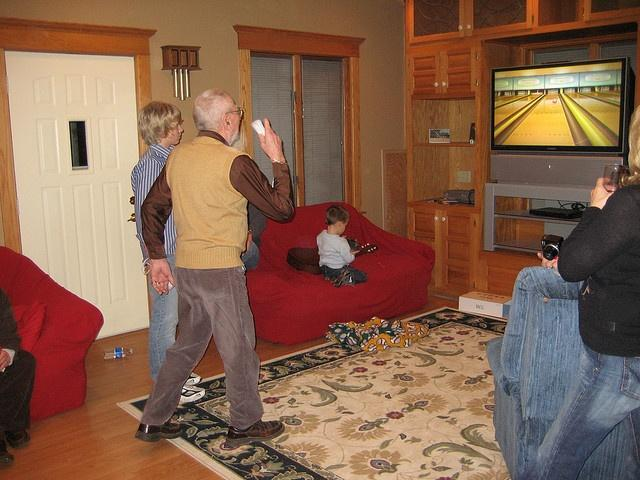AIO PC-Monitor-TV: (491, 56, 627, 154)
